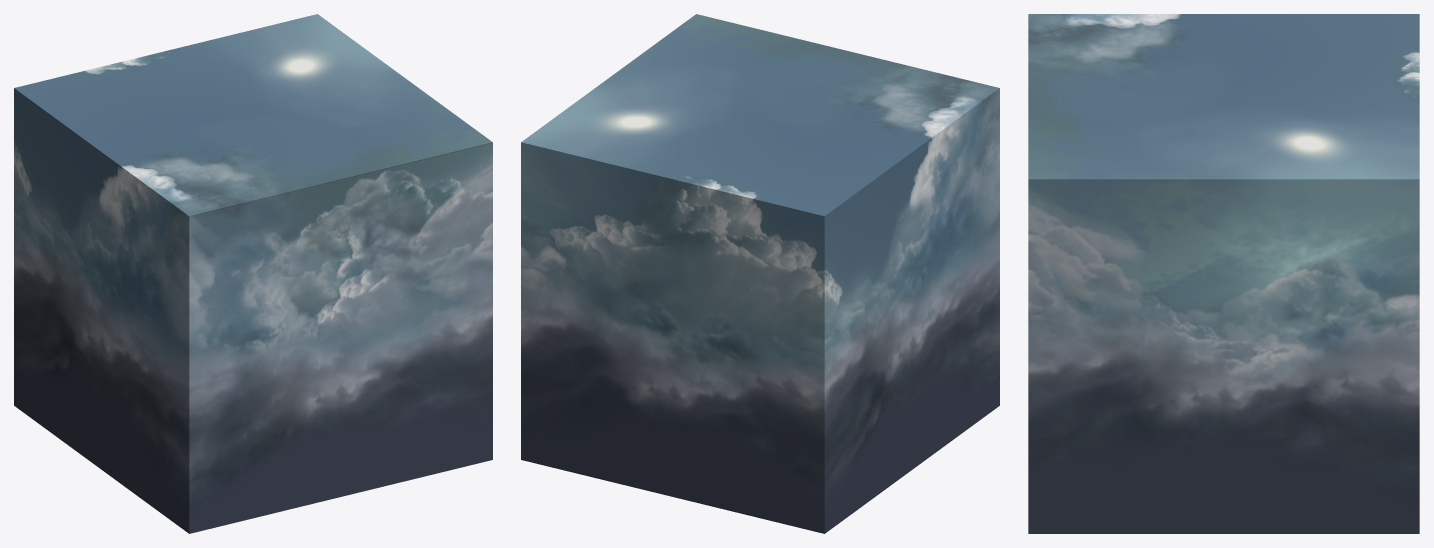
The model's file is castle3.obj.
3 renders of one model, left to right at view 1: azimuth 30°, elevation 25°; view 2: azimuth 150°, elevation 25°; view 3: azimuth 270°, elevation 25°, orthographic. The views are drawn at different scales.
Visible parts, largest first — view 1: Cube_Cube.002; view 2: Cube_Cube.002; view 3: Cube_Cube.002.
Boxes of the visible parts, x1,y1,x2,y2 form: Cube_Cube.002: (14, 14, 492, 533); Cube_Cube.002: (521, 14, 999, 533); Cube_Cube.002: (1028, 14, 1419, 533).
Size of the model in its own units: 531 by 531 by 531.
